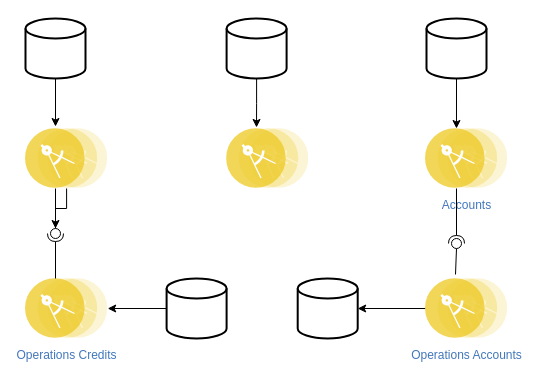
The diagram is 540 pixels wide and 379 high, and some of its shapes have lost their labels. The centre of each missing label's shape, as x and y in pixels:
"Credits" belongs at (x=66, y=158).
"Customers" belongs at (x=267, y=158).
